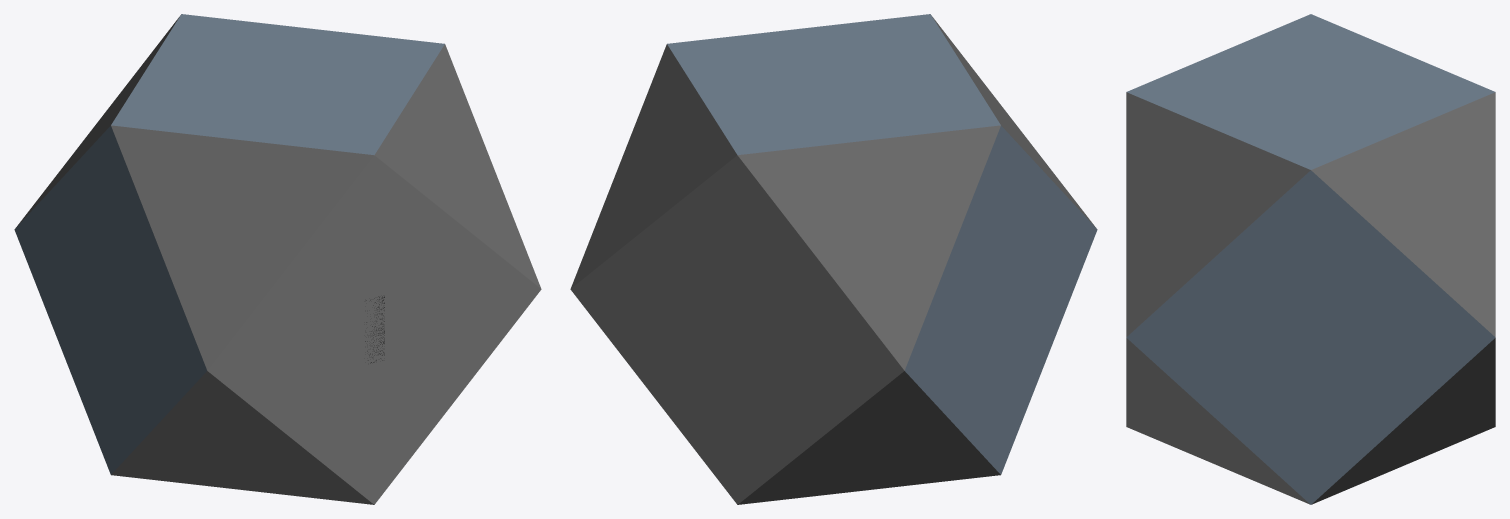
File: coriolis.obj
The picture shows the model from 3 angles, left to right: view 1: azimuth 30°, elevation 25°; view 2: azimuth 150°, elevation 25°; view 3: azimuth 270°, elevation 25°; orthographic projection. The views are drawn at different scales.
Bounding box in the file's own units: 320 × 320 × 320.
